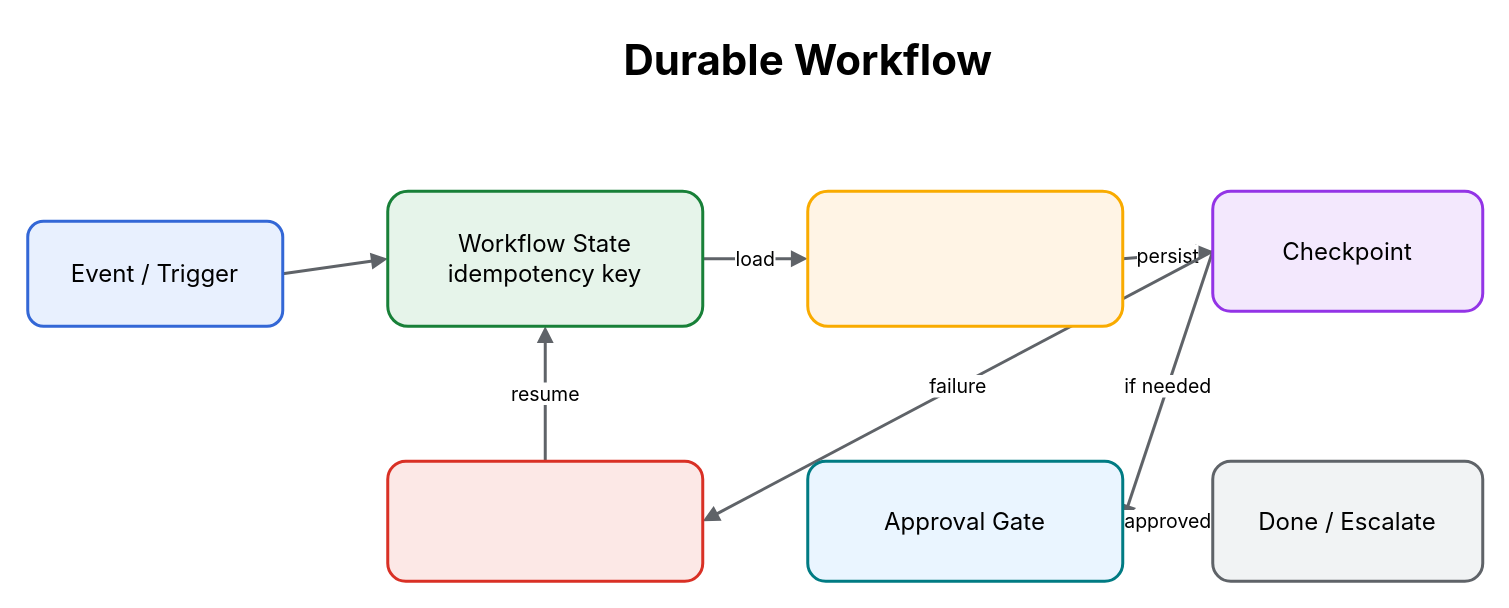
This 1509x608 diagram has some shape labels left out. The centre of each missing label's shape, as x and y in pixels:
"Agent or Tool Step" goes at pixel 965 258.
"Retry / Compensate" goes at pixel 545 520.
